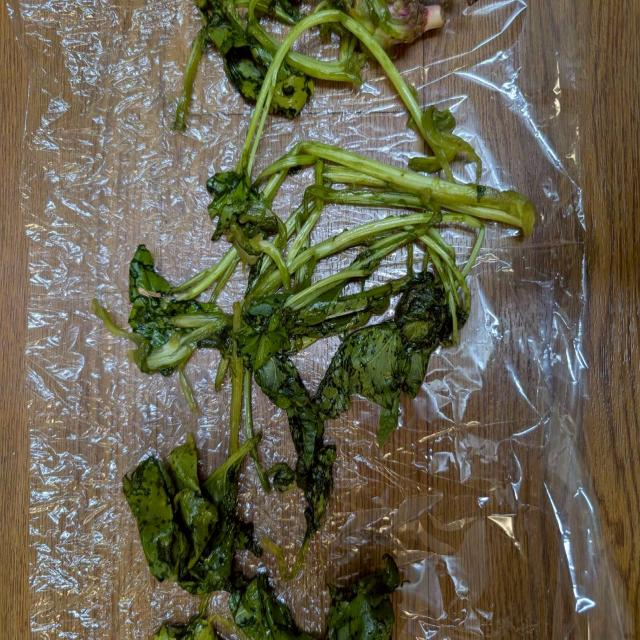rotten spinach: (105, 3, 548, 640), (104, 242, 514, 467), (167, 114, 557, 308), (107, 436, 424, 640), (166, 0, 467, 126)
